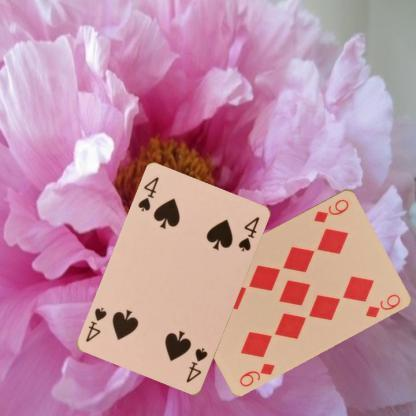4s: (183, 346, 209, 384), (136, 174, 160, 214)
9d: (310, 196, 350, 224), (236, 360, 276, 388)
